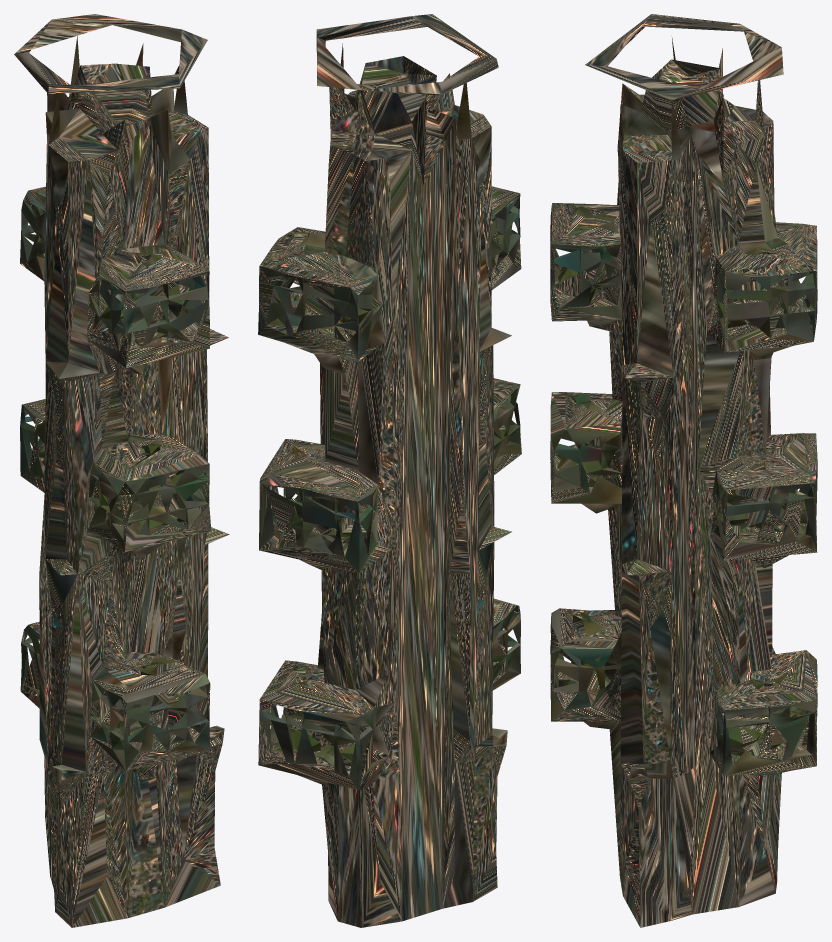
The model's file is t05_far.glb.
3 renders of one model, left to right at view 1: azimuth 30°, elevation 25°; view 2: azimuth 150°, elevation 25°; view 3: azimuth 270°, elevation 25°, orthographic.
Parts seen in each view (by area): view 1: t05_far; view 2: t05_far; view 3: t05_far.
Part boxes in pixels (x1,y1,x2,y2): t05_far: (14,14,229,927); t05_far: (258,14,521,927); t05_far: (550,14,817,927).
Bounding box in the file's own units: 43.39 × 195 × 56.7.
Materials: 1 (1 with a texture image).
